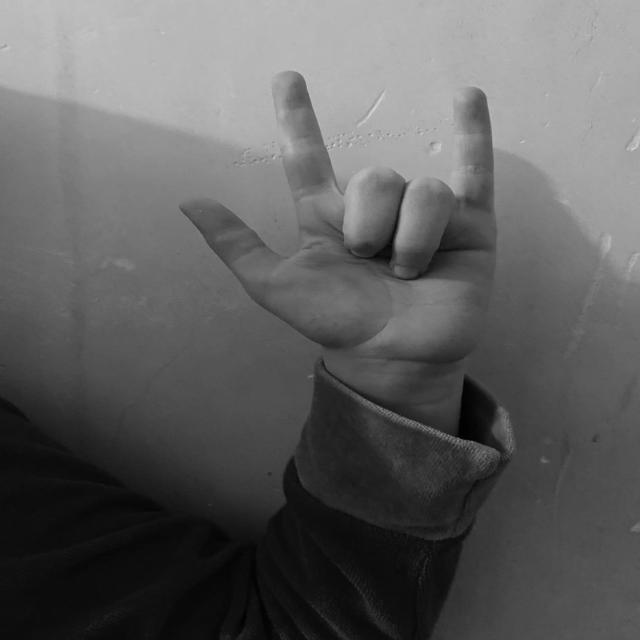i love you: (169, 62, 510, 369)
